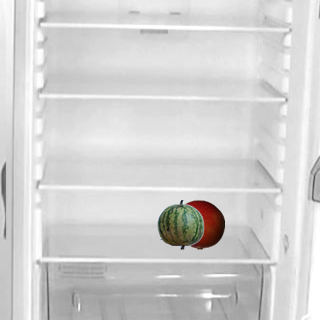Apple Braeburn: (174, 199, 224, 249)
Watermelon: (155, 199, 205, 249)
